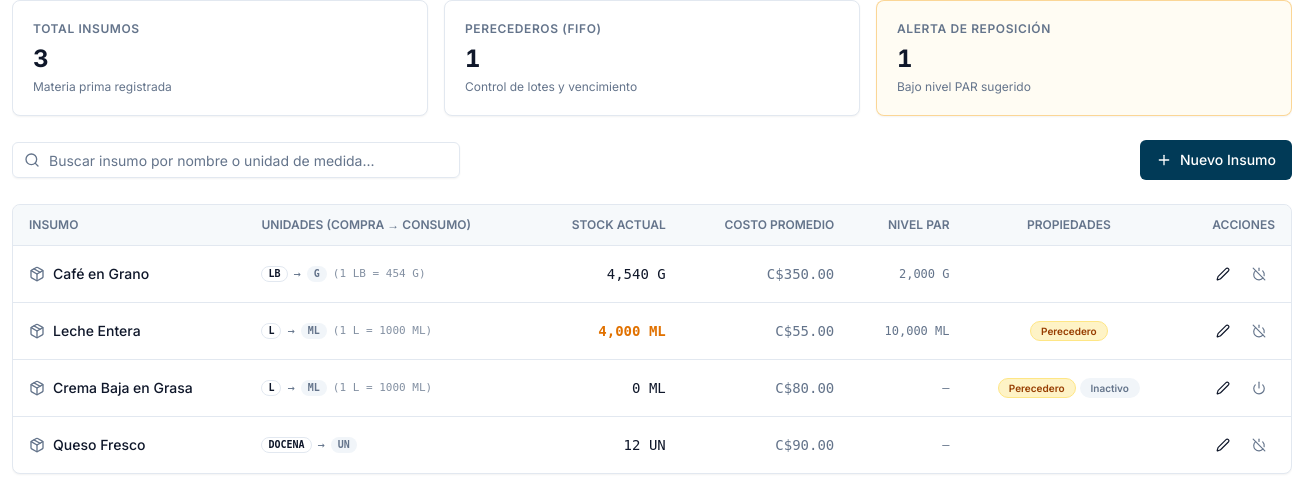
InsumosTab › restores the full dataset via the search clear control (AT-09 / BX-001)
This screenshot has width=1304, height=491.
Expected: the text "Café en Grano" is shown, left=53, top=264, right=149, bottom=284
Type "leche" into the field with test id "insumos-search-input" at [236, 160], box left=12, top=142, right=460, bottom=178
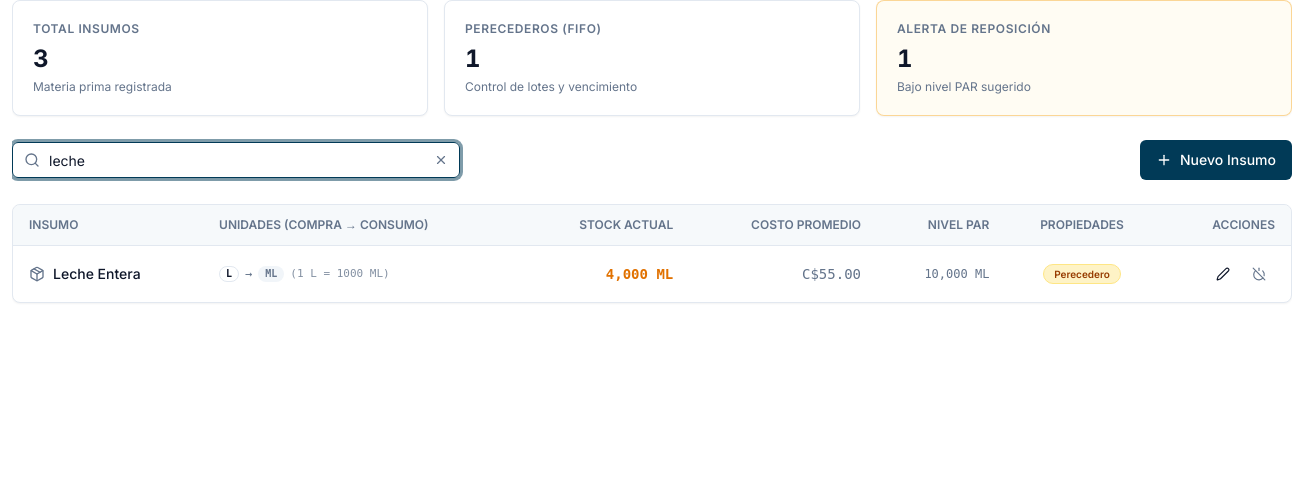
Result: the text "Café en Grano" is gone
Click the button with test id "insumos-search-clear" at [441, 160], box left=430, top=149, right=452, bottom=171
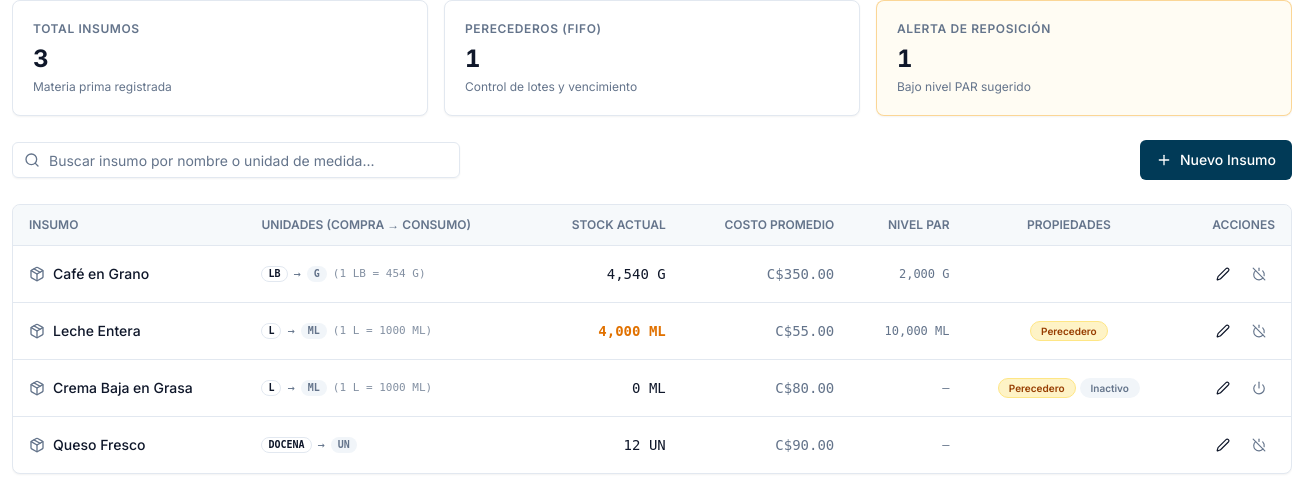
Result: the text "Café en Grano" is shown at left=53, top=264, right=149, bottom=284
Result: the field with test id "insumos-search-input" is empty at left=12, top=142, right=460, bottom=178
Result: the button with test id "insumos-search-clear" is gone
